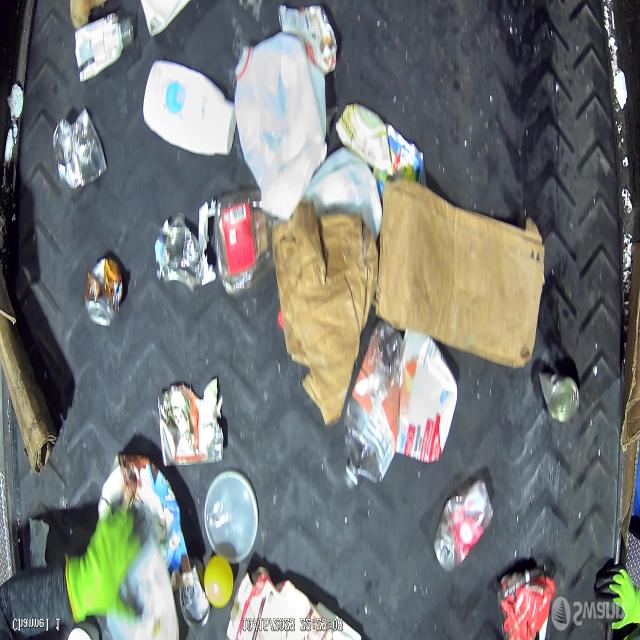can: (434, 477, 494, 571), (53, 108, 109, 193), (278, 2, 338, 78), (86, 253, 127, 328), (540, 366, 581, 424), (180, 558, 210, 630)
milk_jug: (235, 32, 329, 222), (306, 148, 384, 240)
plastic_bottle: (344, 322, 406, 492)
